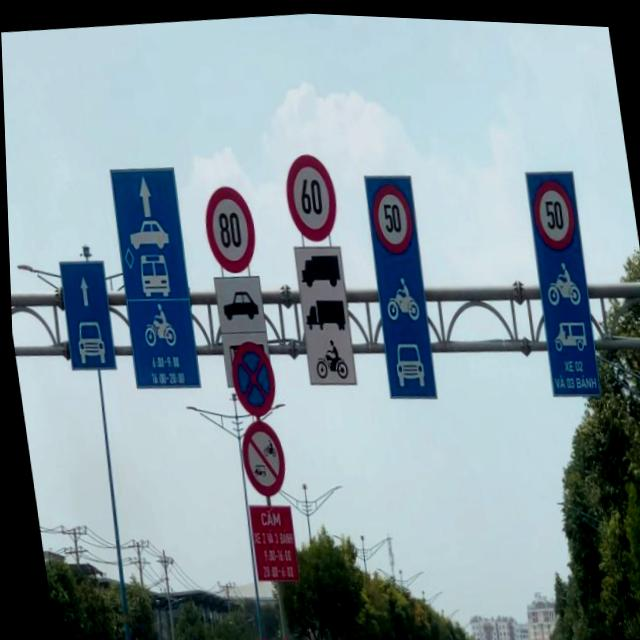Cam dung xe va do xe: (224, 335, 276, 417)
Toc do toi da cho phep: (278, 147, 341, 243), (198, 180, 259, 275), (527, 171, 577, 248), (366, 177, 415, 253)
